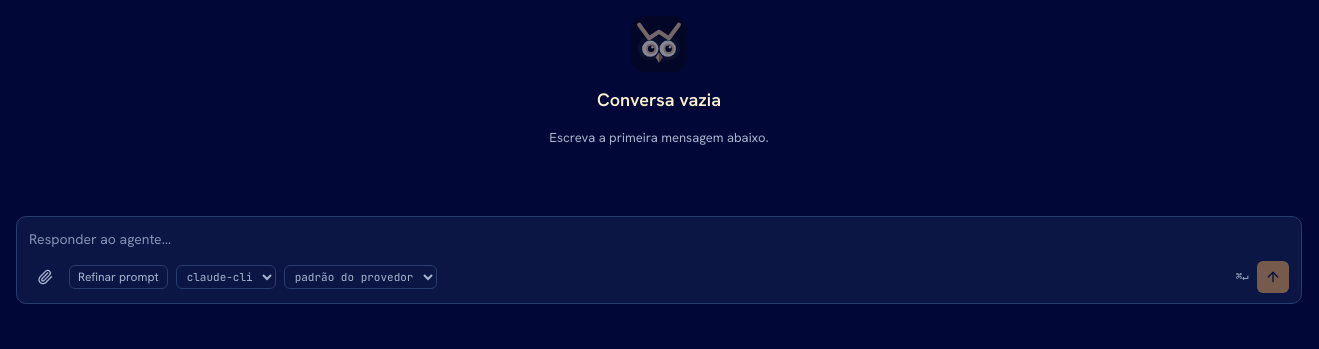
Chat (design) › composer: refine toggle reveals the options; send is the amber arrow
In the text box named "Mensagem": (659, 240) top-left (29, 228), bottom-right (1289, 250), type "oi"
Then press Enter
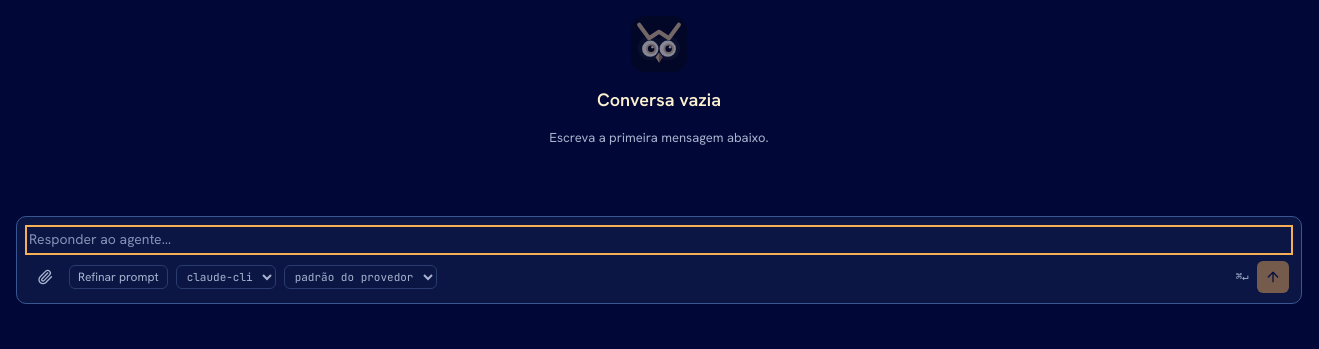
Click the button "Refinar prompt": (118, 276) top-left (69, 264), bottom-right (168, 288)
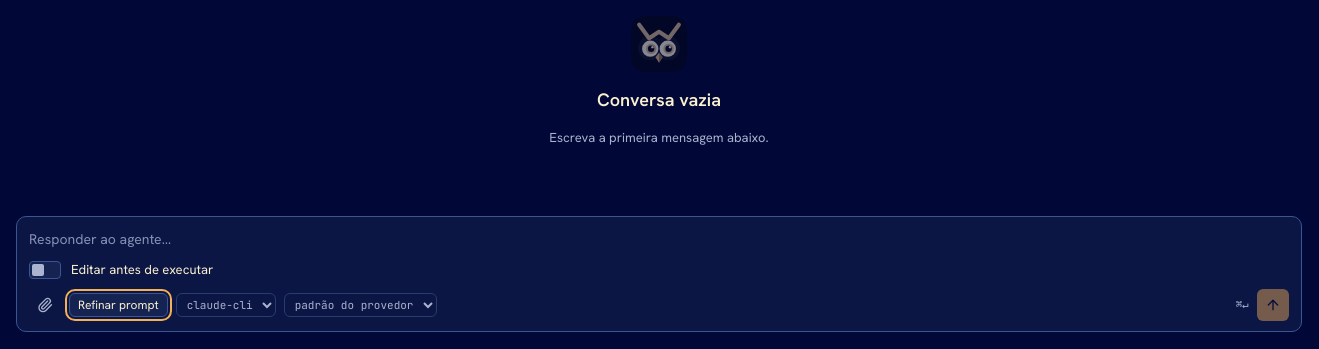
Result: the switch named "Editar antes de executar" is shown at top-left (29, 260), bottom-right (61, 278)
